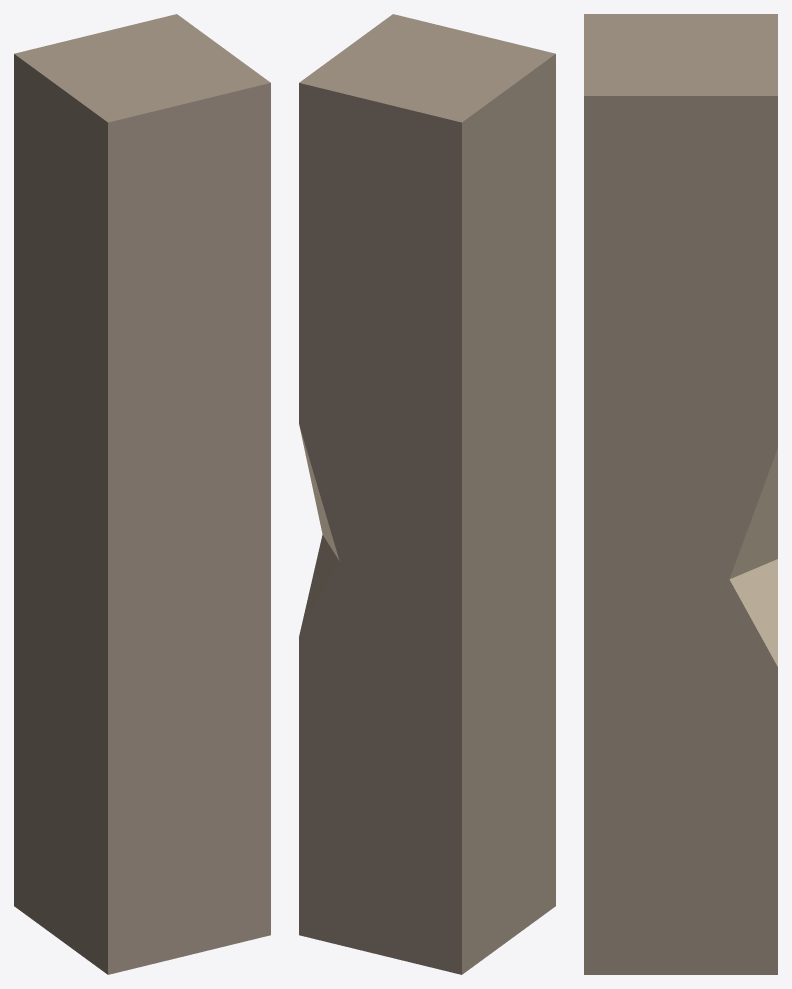
Rendered from Stucco_Prop_Support_Pillar_2.glb.
3 renders of one model, left to right at view 1: azimuth 30°, elevation 25°; view 2: azimuth 150°, elevation 25°; view 3: azimuth 270°, elevation 25°, orthographic. The views are drawn at different scales.
Parts seen in each view (by area): view 1: object1; view 2: object1; view 3: object1.
Part boxes in pixels (left/top/right/bottom): object1: left=14, top=14, right=270, bottom=974; object1: left=299, top=14, right=555, bottom=974; object1: left=584, top=14, right=777, bottom=974.
Size of the model in its own units: 0.2 by 1 by 0.2.
